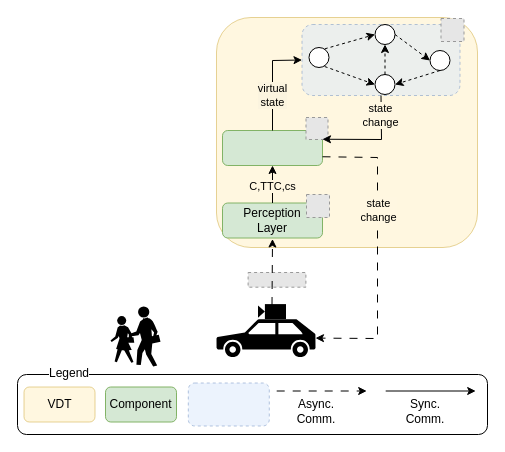
Some shapes in this 505 by 452 pixel diagram are drawn without their labels. Grey dashed boxes stand in for pictures. Each missing label, with the centre of its shape:
Hybrid Automaton: (x=228, y=404)
State Manager: (x=272, y=148)
